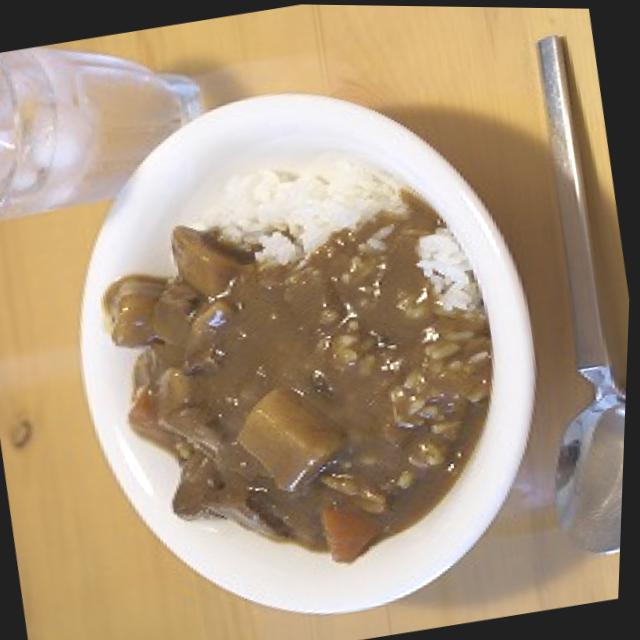牛肉菜式: (33, 51, 591, 640)
